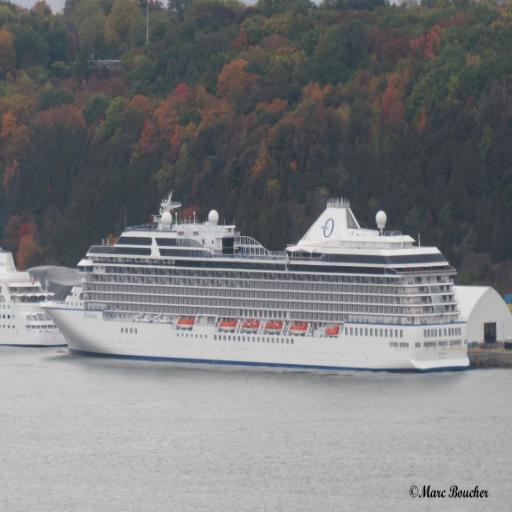cruises: (36, 189, 472, 382)
